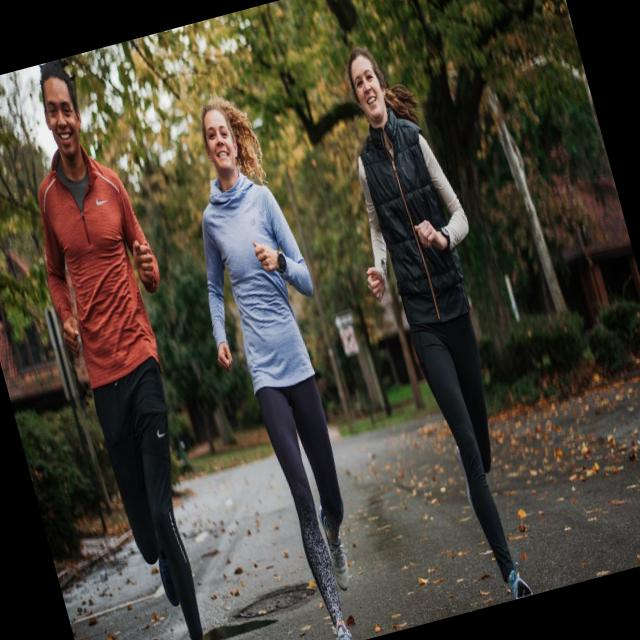Person: (0, 48, 265, 640), (307, 31, 565, 615), (153, 85, 406, 640)
